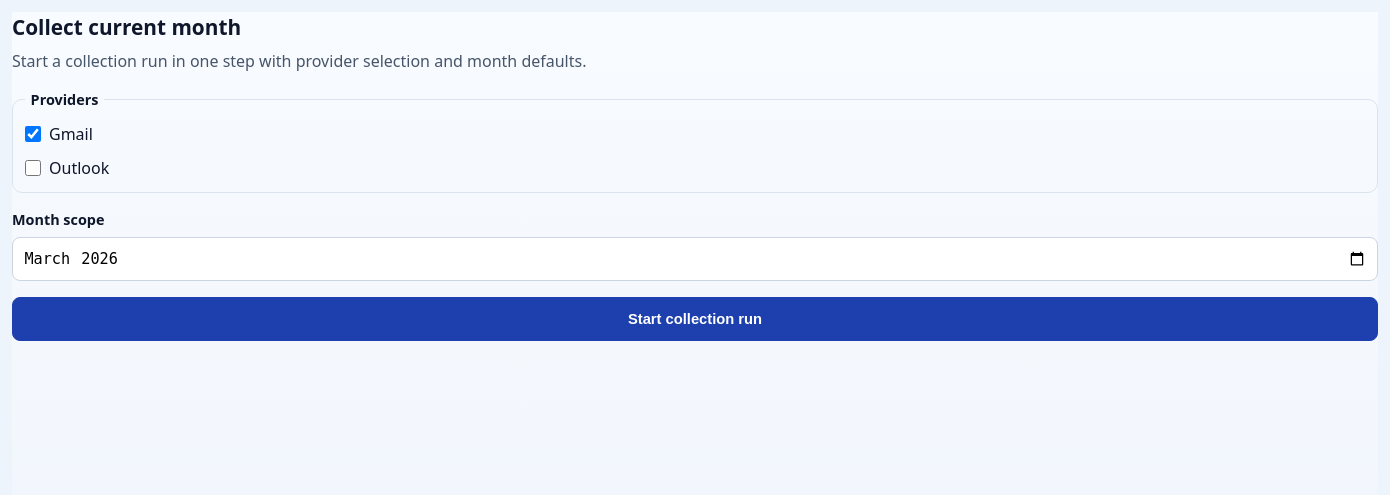
Test case: CollectionWizardPage › shows error state when submit request fails
Step 1. Click the button "Start collection run" → [695, 319], box [12,297,1378,341]
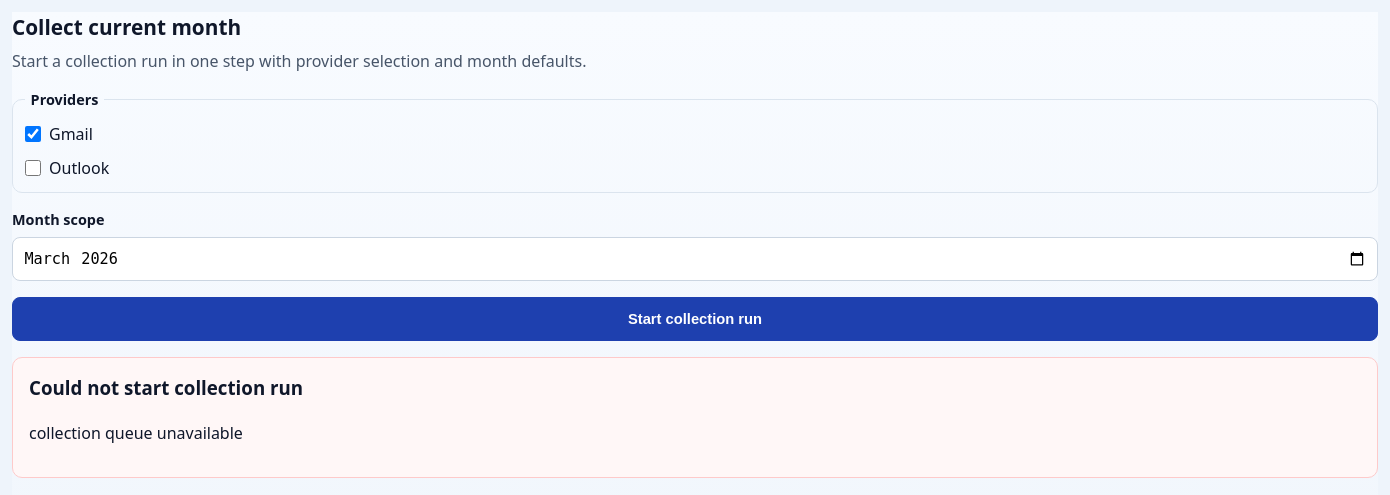
Expected: the message shows "collection queue unavailable", [29,422,243,444]
